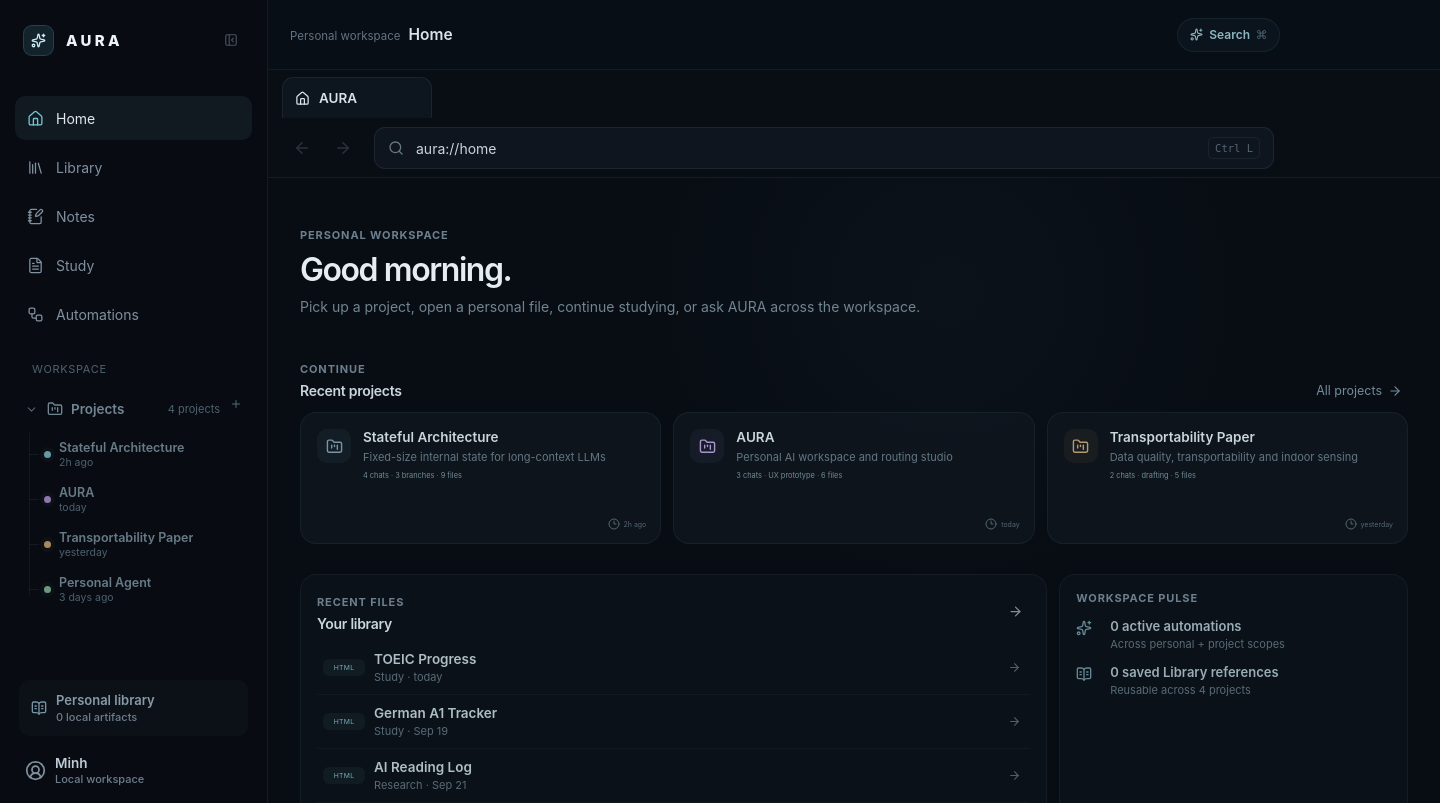
Scenario: Navigation and Workspace Shell Invariants › runs a real workspace search from the omnibox and displays backend results
Replace the text in the field with placeholder "Search files, projects, chats, notes or enter a URL…" with "unique omnibox search". click: point(806, 148)
box: [414,138,1198,158]
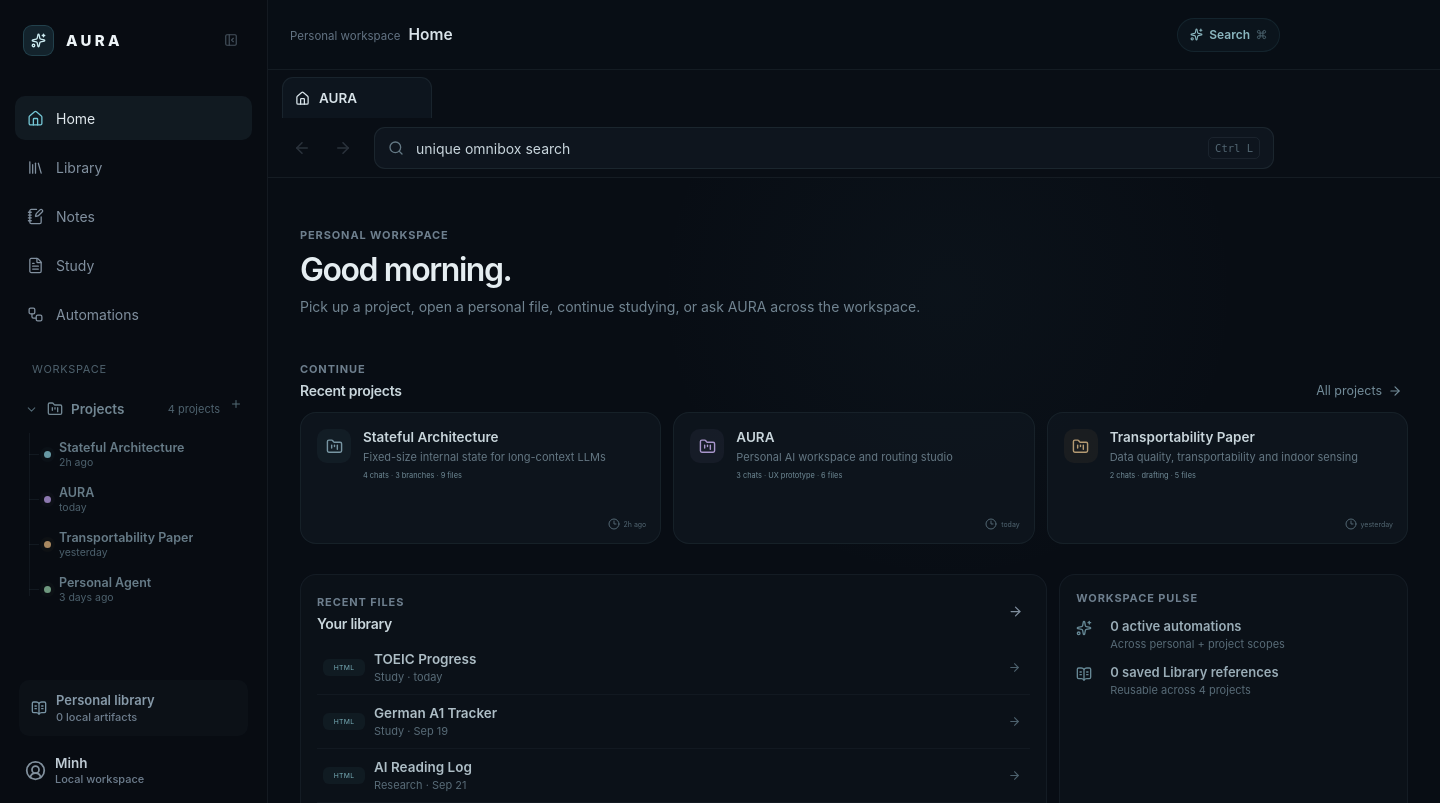
Submit the form with placeholder "Search files, projects", box [374,127,1274,169]
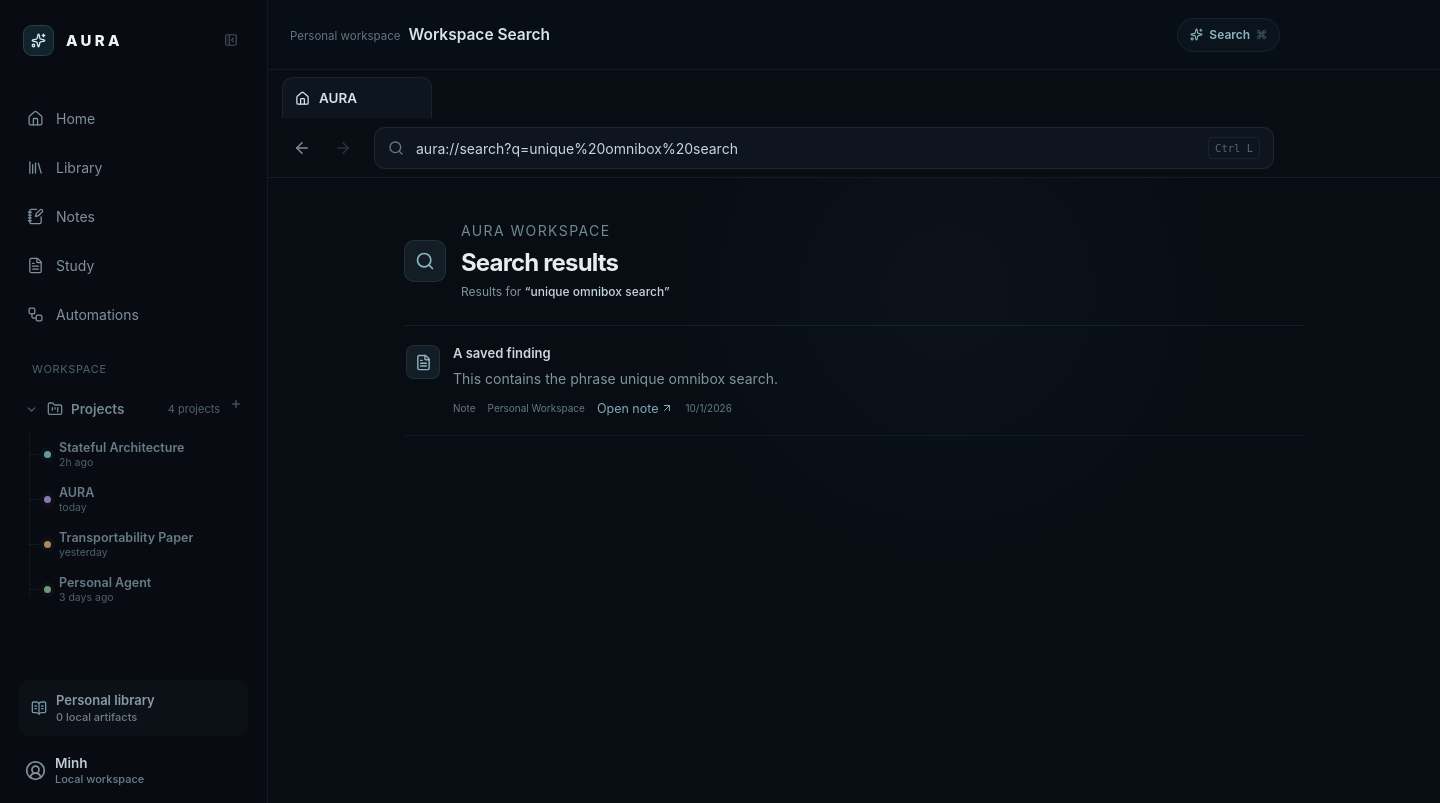
Expected: the button "AURA" is shown, [283,78,431,118]
Now the heading "A saved finding" is shown, box [453,345,551,361]
